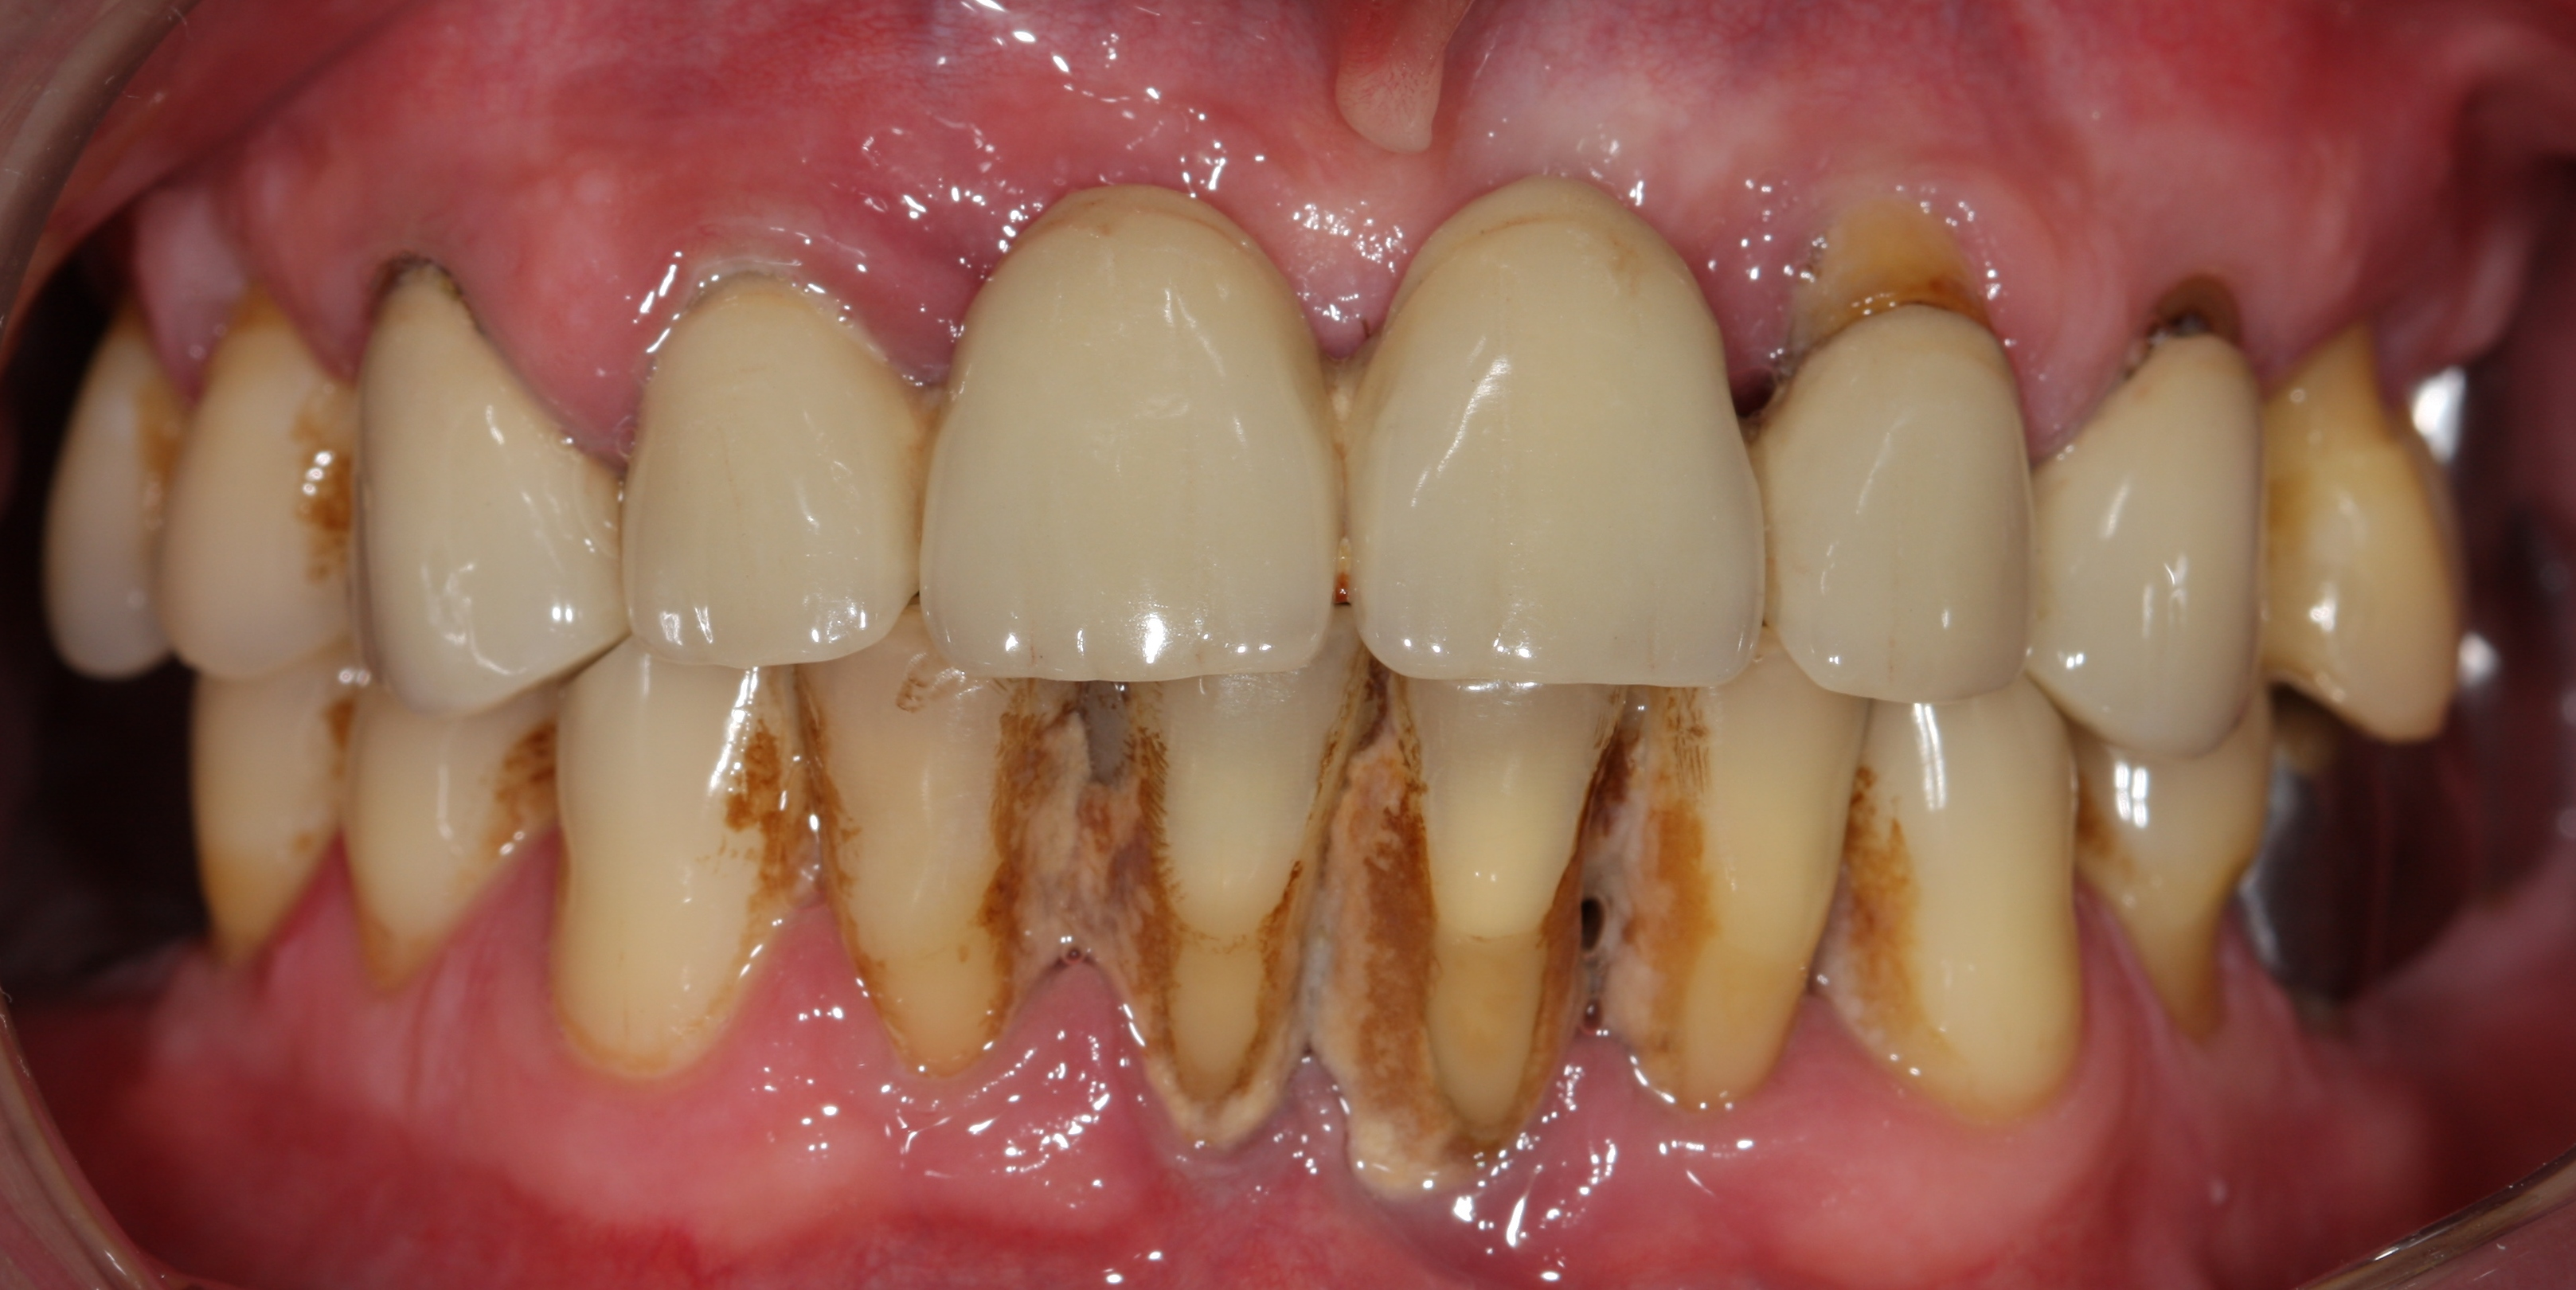LL1BC_decay: (2084, 724, 2286, 1040)
LLCI_decay: (1341, 688, 1601, 1193)
LLC_decay: (1852, 704, 2102, 1116)
LLLI_decay: (1607, 681, 1852, 1116)
LR1BC_decay: (331, 693, 558, 977)
LR2BC_healthy: (183, 670, 345, 967)
LRCI_decay: (1089, 676, 1337, 1167)
LRC_decay: (538, 673, 804, 1055)
LRLI_decay: (798, 661, 1077, 1068)
UL1BC_healthy: (2278, 365, 2477, 747)
ULCI_healthy: (1342, 174, 1770, 701)
ULC_healthy: (2012, 334, 2267, 762)
ULLI_healthy: (1760, 295, 2040, 698)
UR1BC_decay: (168, 314, 365, 681)
URCI_healthy: (920, 174, 1342, 681)
URC_healthy: (345, 267, 625, 716)
URLI_healthy: (615, 267, 923, 670)
